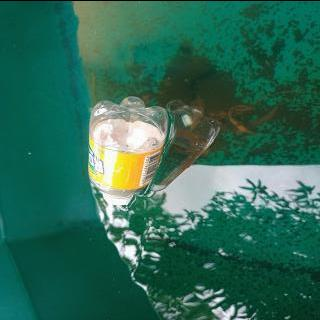bottle: (85, 92, 173, 207)
